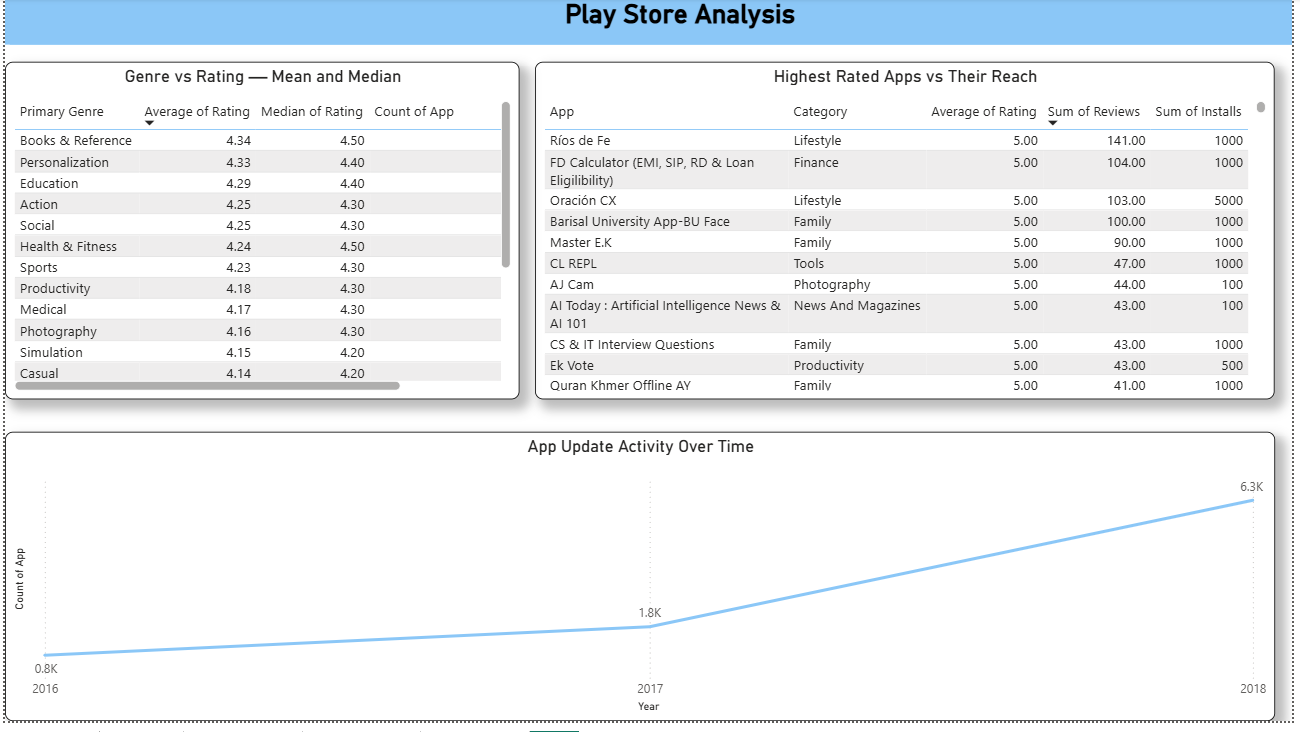

This screenshot's page, from the dashboard's own definition file:
{"tool":"powerbi","page":{"name":"Advance","canvas":[1280,720],"ordinal":3},"visuals":[{"type":"tableEx","title":"Highest Rated Apps vs Their Reach","fields":{"Values":["Apps.App","Apps.Category","Avg(Apps.Rating)","Sum(Apps.Reviews)","Sum(Apps.Installs)"]},"box":[528,64,736,336],"z":0},{"type":"lineChart","title":"App Update Activity Over Time","fields":{"Category":["Apps.Last Updated.Variation.Date Hierarchy.Year","Apps.Last Updated.Variation.Date Hierarchy.Month"],"Y":["CountNonNull(Apps.App)"]},"box":[0,432,1264,288],"z":1000},{"type":"tableEx","title":"Genre vs Rating — Mean and Median","fields":{"Values":["Apps.Primary Genre","Avg(Apps.Rating)","Median(Apps.Rating)","Apps.App"]},"box":[0,64,512,336],"z":2000},{"type":"textbox","title":"Play Store Analysis","box":[0,0,1344,48],"z":3000}]}

Visuals, with their boxes in screenshot pixels (x1, y1, x2, y2), scaled from the page's 1280x720 canvas onto the 1300x732 screenshot:
"Highest Rated Apps vs Their Reach" tableEx: box=[536, 65, 1284, 407]
"App Update Activity Over Time" lineChart: box=[0, 439, 1284, 731]
"Genre vs Rating — Mean and Median" tableEx: box=[0, 65, 520, 407]
"Play Store Analysis" textbox: box=[0, 0, 1299, 49]
